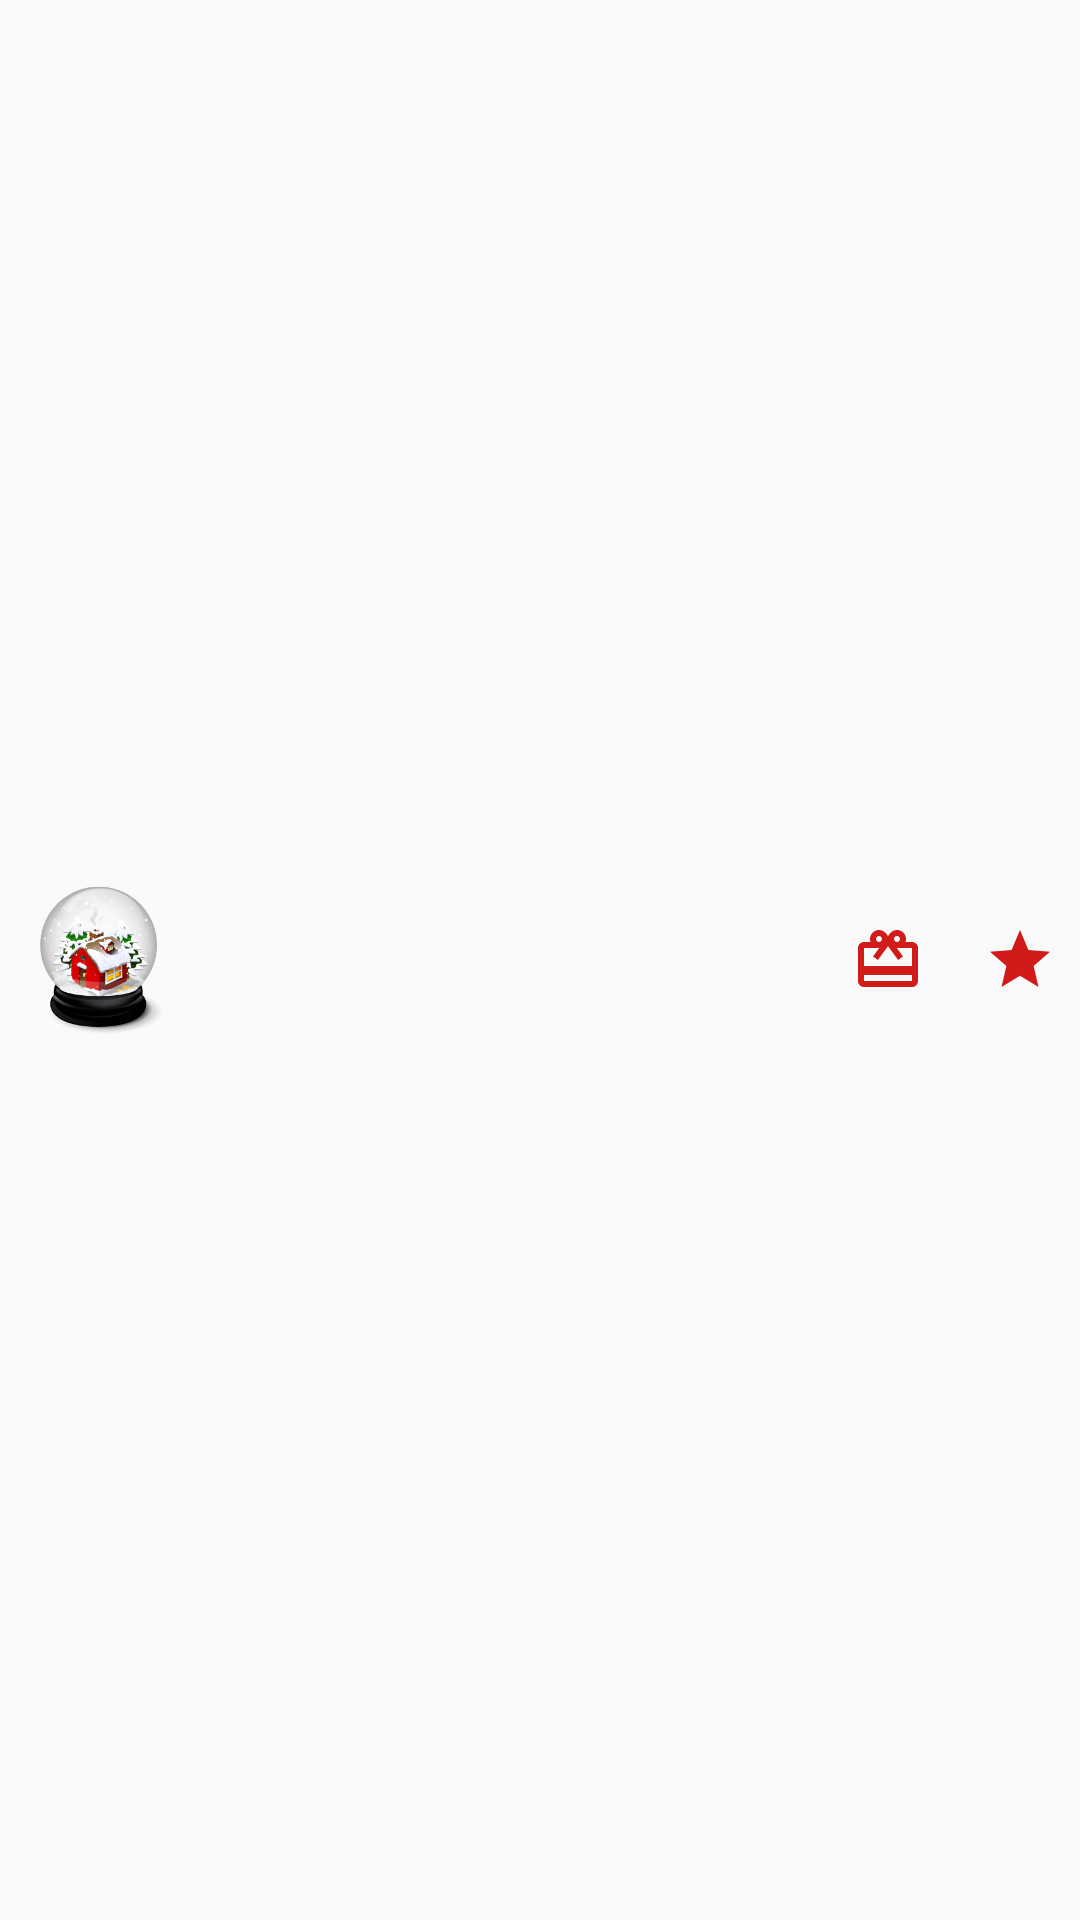

Where to tap for icons on this 1080*1920 app screen, as [x,y]:
present: [888,958]
